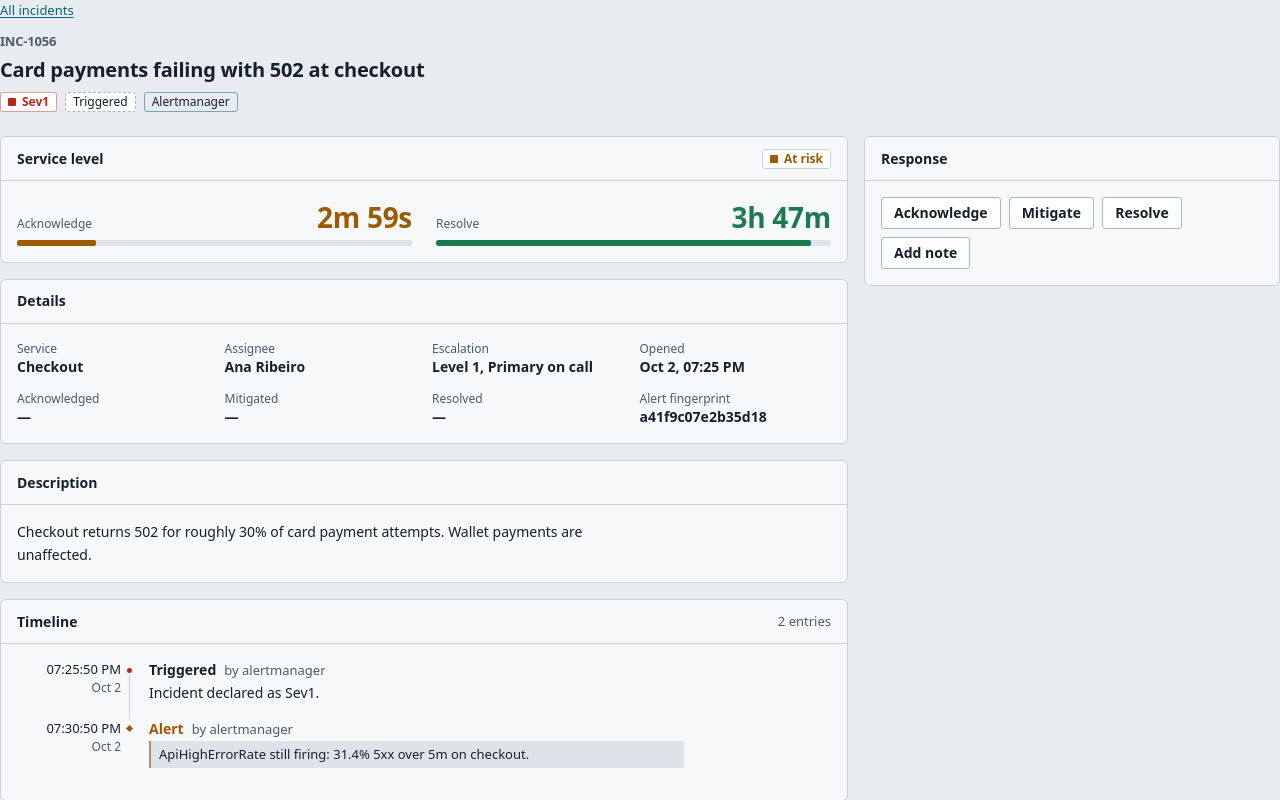
IncidentDetailPage › requires a root cause before resolving
Click the button "Resolve": coordinates (1142, 214) [1102,198,1182,230]
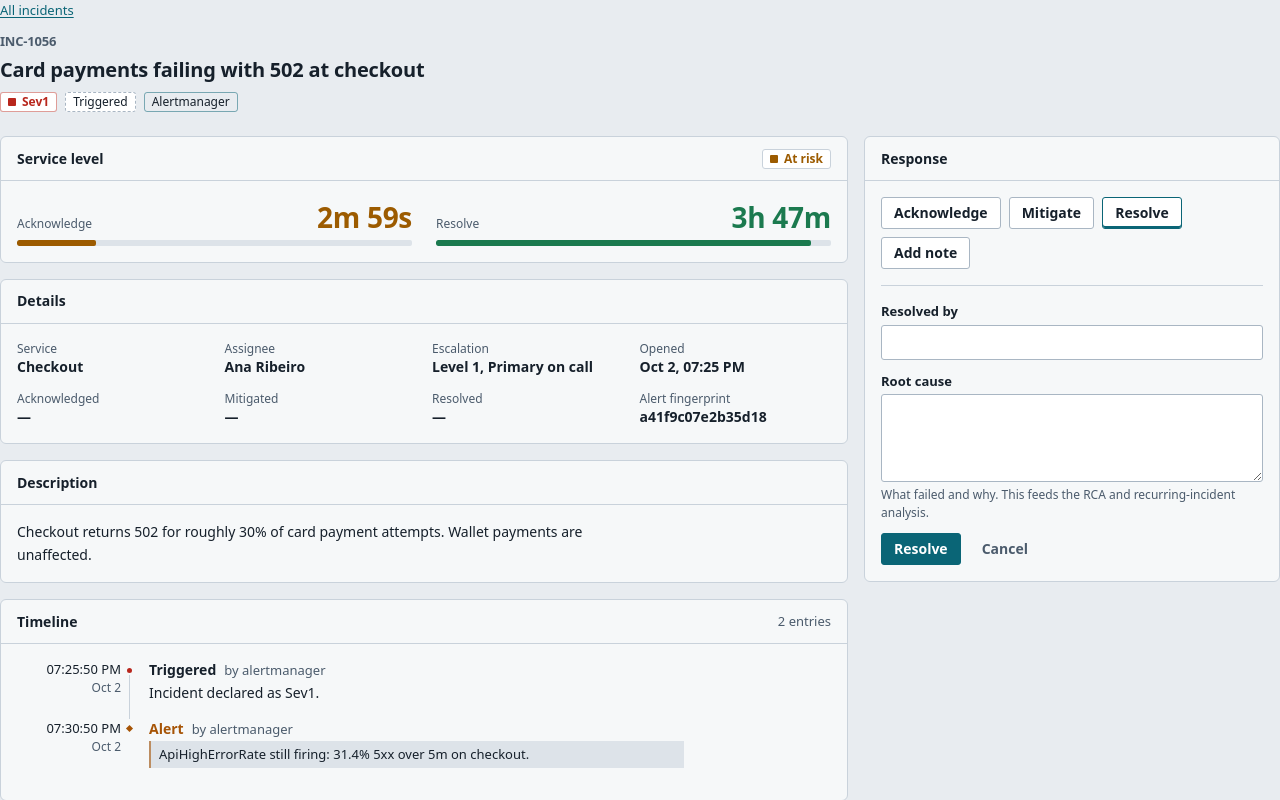
In the field labelled "Resolved by": coordinates (1072, 342) [881,325,1263,360], type "Ana Ribeiro"
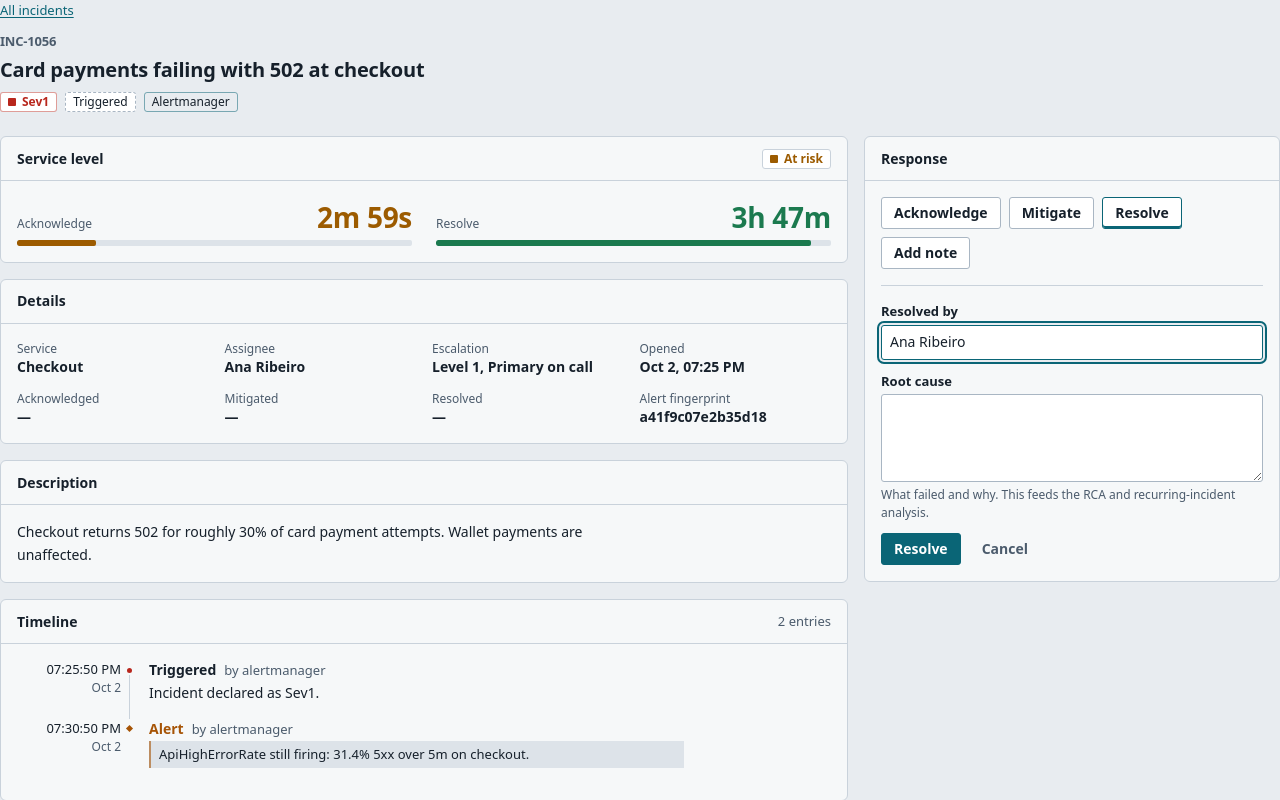
Click the button "Resolve" below "Root cause": coordinates (921, 549) [881,533,961,565]
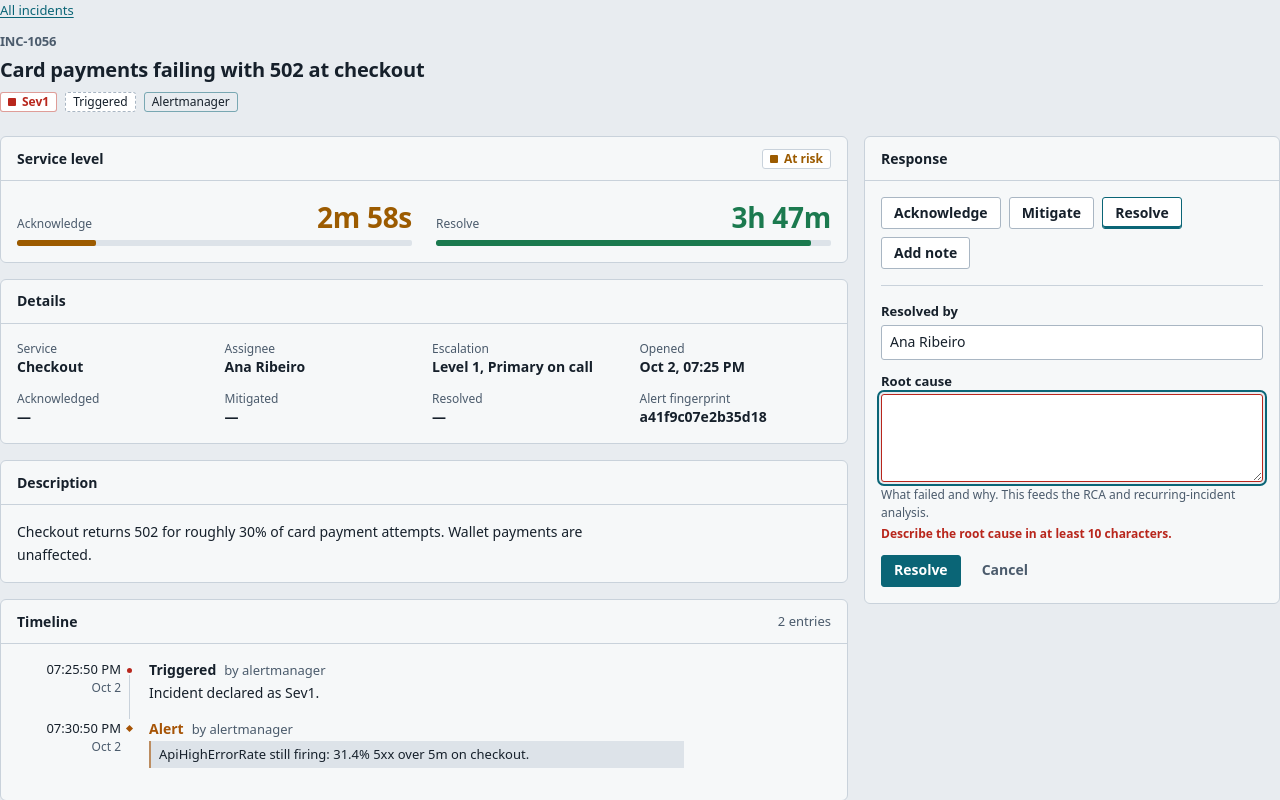
Check: the text "Describe the root cause in at least 10 characters." is shown, box [881,525,1172,542]
